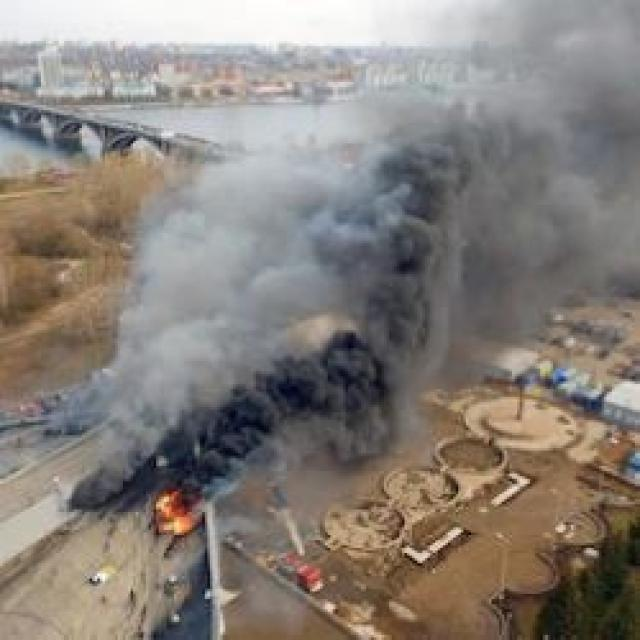Fire: (148, 493, 194, 535)
Smoke: (88, 0, 640, 495)
